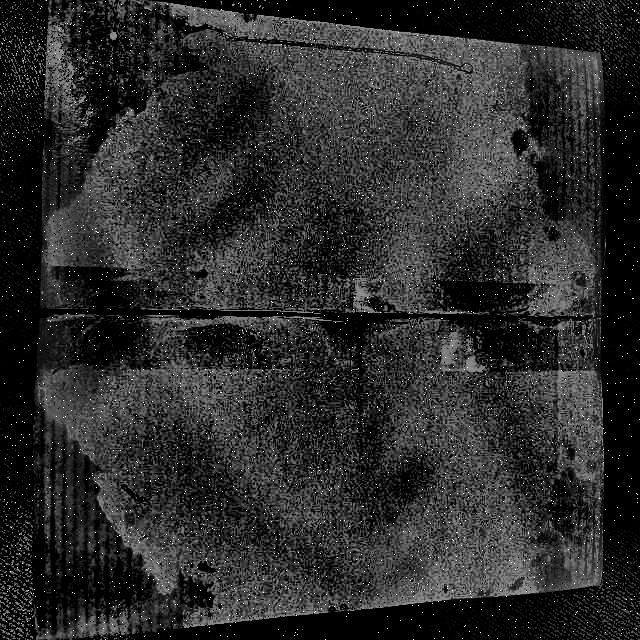box: (15, 0, 619, 640)
wet: (22, 385, 207, 633), (28, 1, 202, 217), (502, 48, 603, 274), (522, 454, 610, 584)
